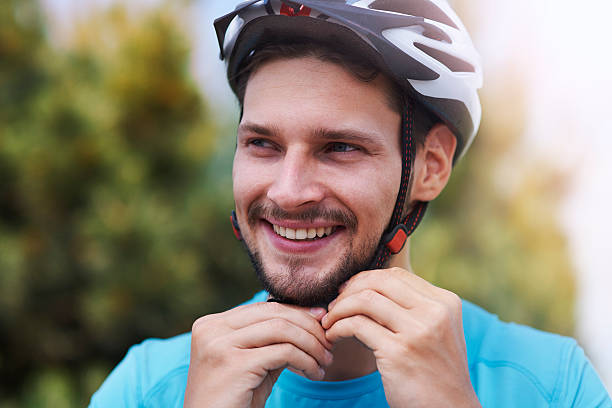helmet: (213, 1, 482, 304)
